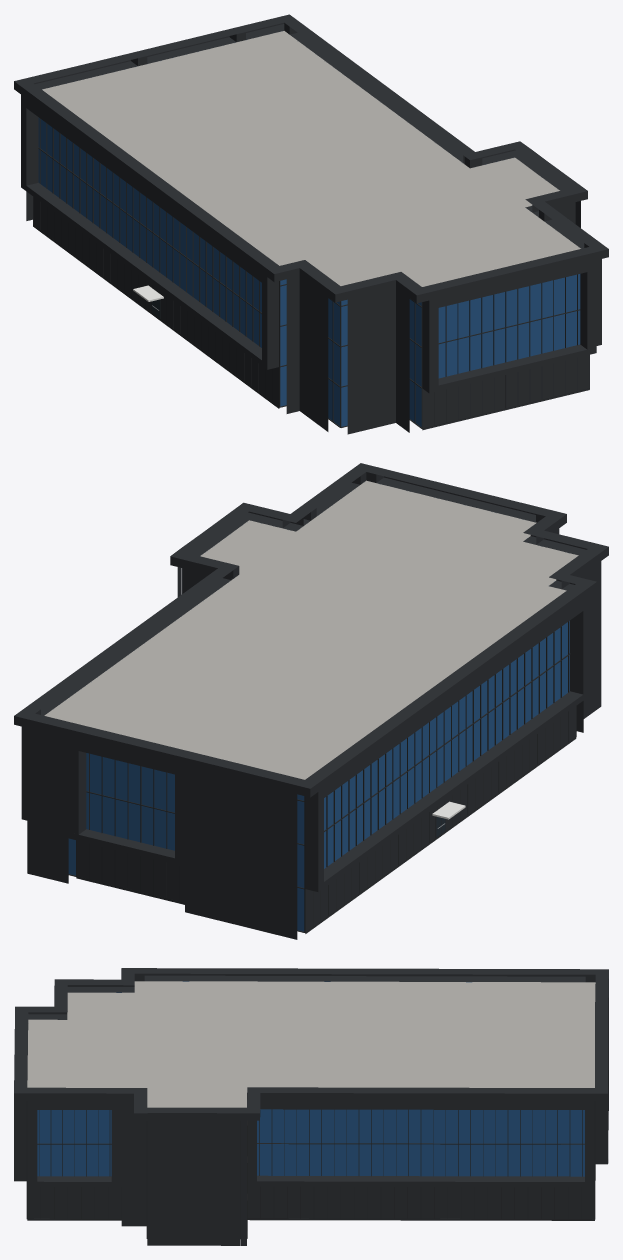
The model's file is student_services_building_addition.glb.
The picture shows the model from 3 angles, top to bottom: view 1: azimuth 30°, elevation 25°; view 2: azimuth 150°, elevation 25°; view 3: azimuth 270°, elevation 25°; orthographic projection. The views are drawn at different scales.
Visible parts, largest first — view 1: student_services_building_addition_Roof_Membrane, student_services_building_addition_Wall_charcoal, student_services_building_addition_Glass_blue, student_services_building_addition_Frame_Dark; view 2: student_services_building_addition_Roof_Membrane, student_services_building_addition_Wall_charcoal, student_services_building_addition_Glass_blue, student_services_building_addition_Frame_Dark; view 3: student_services_building_addition_Wall_charcoal, student_services_building_addition_Roof_Membrane, student_services_building_addition_Glass_blue, student_services_building_addition_Frame_Dark.
Boxes of the visible parts, box(x1,y1,x2,y2) form: student_services_building_addition_Roof_Membrane: box(42, 31, 580, 286); student_services_building_addition_Wall_charcoal: box(14, 14, 608, 434); student_services_building_addition_Glass_blue: box(38, 117, 580, 426); student_services_building_addition_Frame_Dark: box(33, 118, 589, 428); student_services_building_addition_Roof_Membrane: box(44, 480, 578, 779); student_services_building_addition_Wall_charcoal: box(14, 463, 608, 939); student_services_building_addition_Glass_blue: box(68, 581, 569, 931); student_services_building_addition_Frame_Dark: box(68, 621, 576, 932); student_services_building_addition_Wall_charcoal: box(14, 968, 608, 1245); student_services_building_addition_Roof_Membrane: box(27, 981, 595, 1107); student_services_building_addition_Glass_blue: box(37, 981, 584, 1176); student_services_building_addition_Frame_Dark: box(26, 1011, 595, 1238).
Size of the model in its own units: 41.81 by 17.7 by 71.96.
